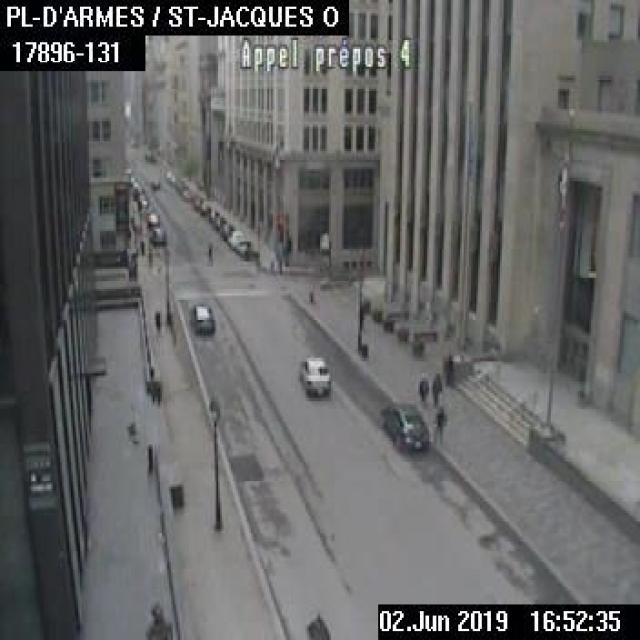pedestrian: (430, 406, 445, 445), (416, 371, 427, 407), (430, 370, 440, 406), (442, 352, 452, 384), (152, 307, 159, 335), (205, 240, 211, 264), (138, 238, 144, 256)
vehicle: (378, 402, 429, 453), (298, 354, 330, 396), (186, 302, 213, 334), (234, 238, 256, 257), (225, 228, 243, 248), (148, 227, 165, 244), (145, 210, 157, 224), (150, 178, 159, 188)
